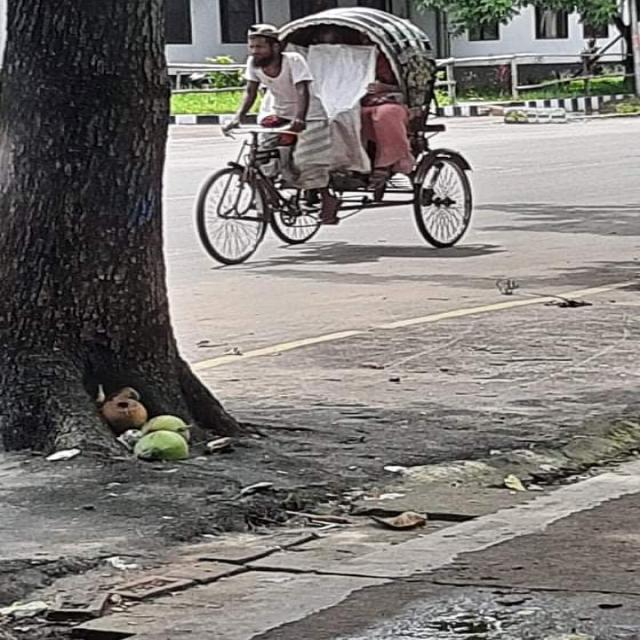rickshaw: (204, 19, 469, 254)
